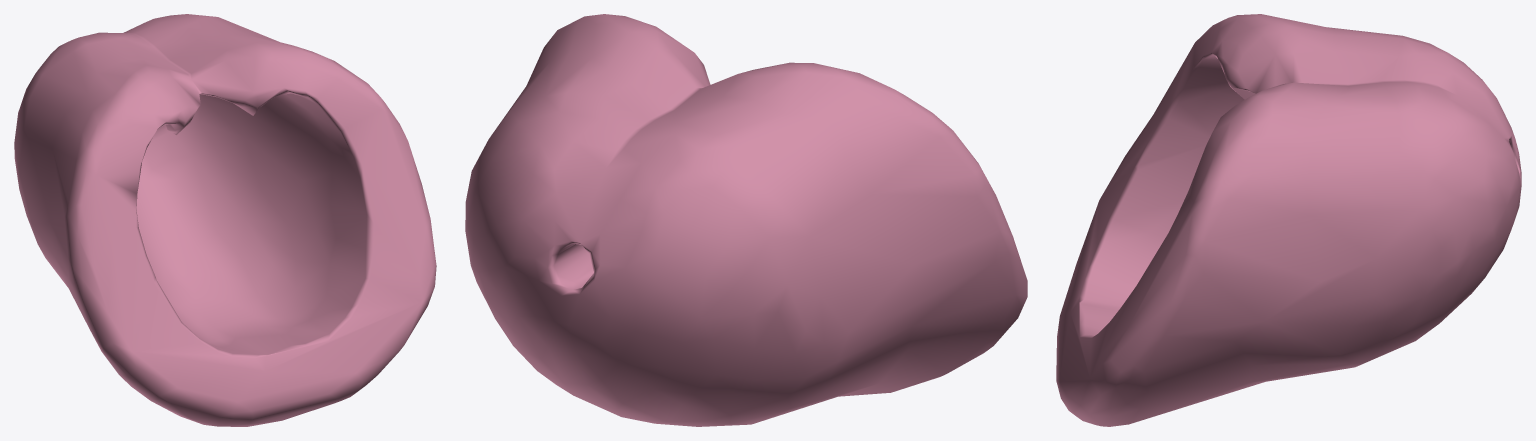
3 views of the same model, side by side, from view 1: azimuth 30°, elevation 25°; view 2: azimuth 150°, elevation 25°; view 3: azimuth 270°, elevation 25° (orthographic). The views are drawn at different scales.
Visible parts, largest first — view 1: 阴茎头; view 2: 阴茎头; view 3: 阴茎头.
Boxes of the visible parts, bbox=[...] form: 阴茎头: bbox=[14, 14, 436, 426]; 阴茎头: bbox=[465, 14, 1027, 426]; 阴茎头: bbox=[1056, 14, 1521, 426].
Bounding box in the file's own units: 0.0453 × 0.0378 × 0.0465.
